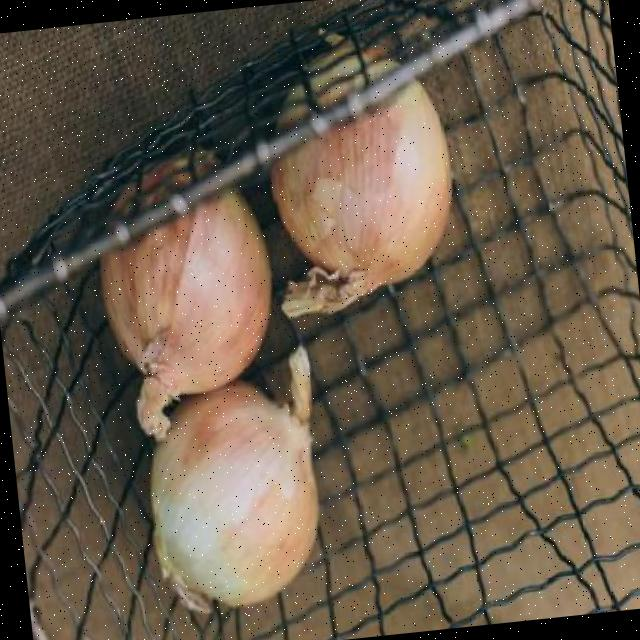Onion: (150, 342, 319, 611), (95, 184, 272, 434), (268, 78, 452, 309)
